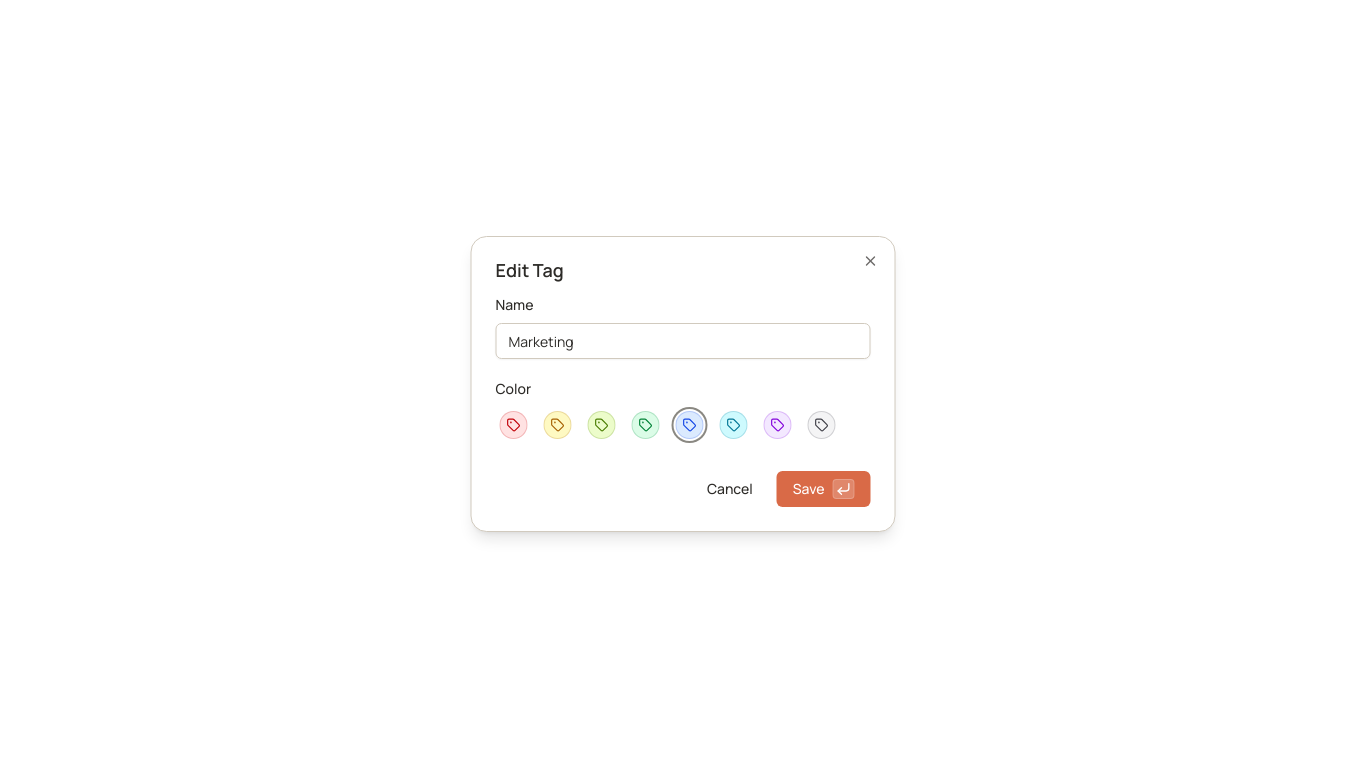
Test: EditTagModal › stays open and keeps the form editable when the API rejects the update
Type "x" into the field labelled "Name" at [683, 341], box [496,323,870,359]
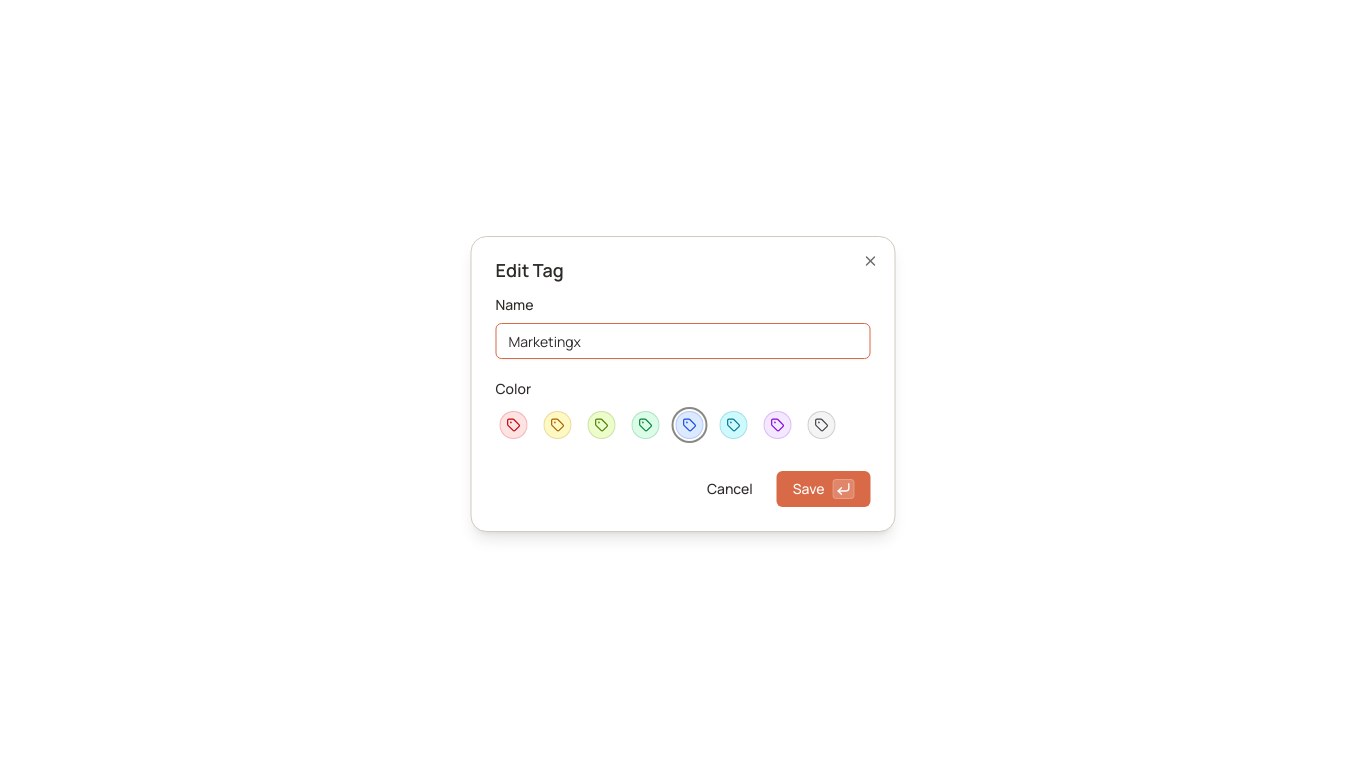
Click the button "Save" at [824, 489], box [777,471,870,507]
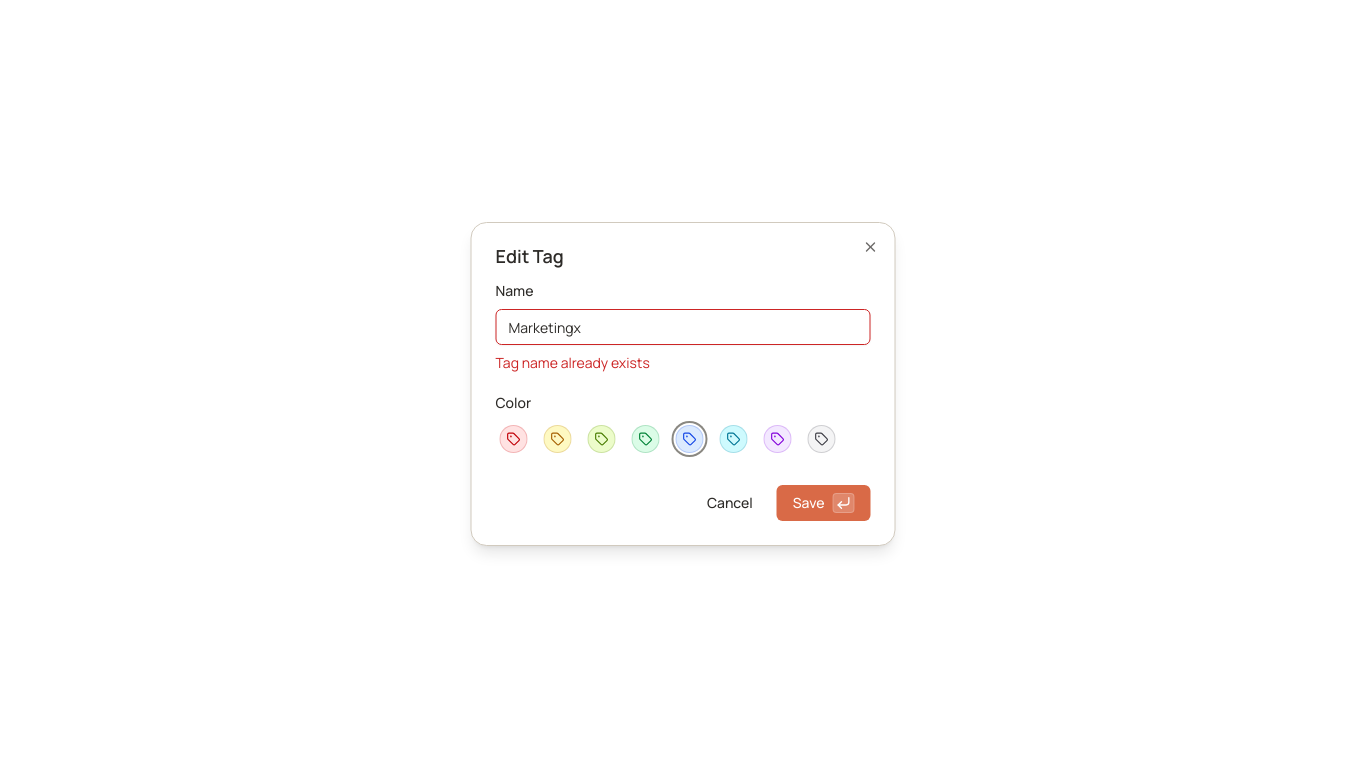
Check: the button "Save" is enabled, box [777,485,870,521]
Check: the message reads "Tag name already exists", box [496,353,650,372]
